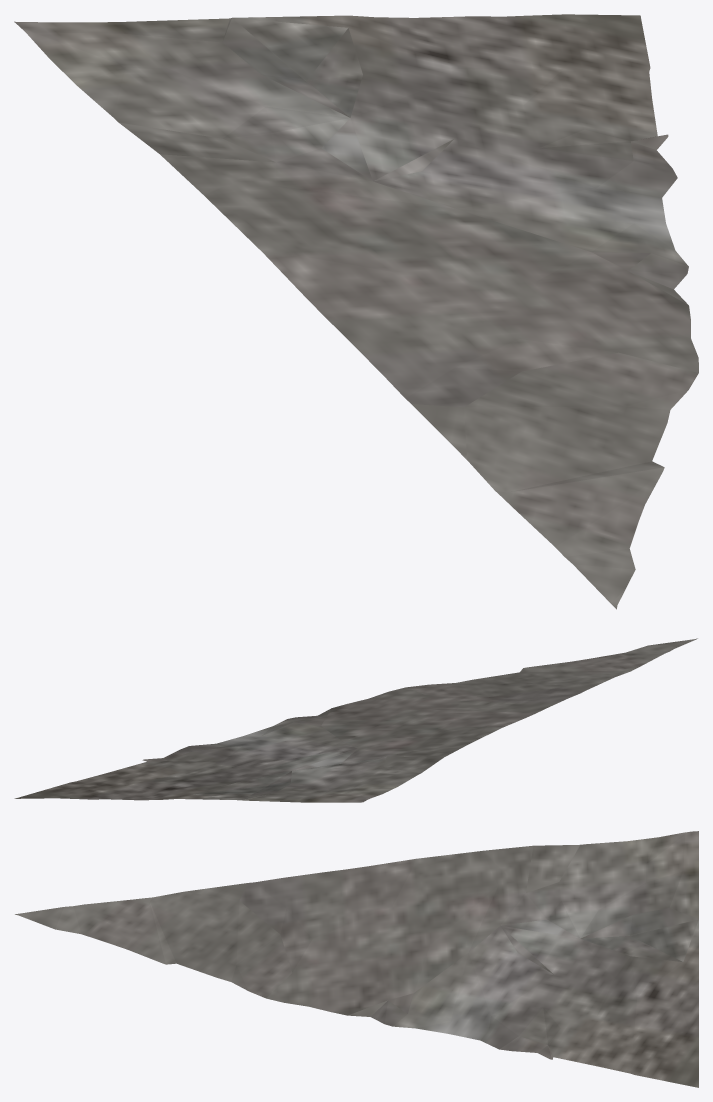
3 renders of one model, top to bottom at view 1: azimuth 30°, elevation 25°; view 2: azimuth 150°, elevation 25°; view 3: azimuth 270°, elevation 25°, orthographic. The views are drawn at different scales.
Size of the model in its own units: 0.5219 by 0.1166 by 0.87.
1 material, 1 textured.
